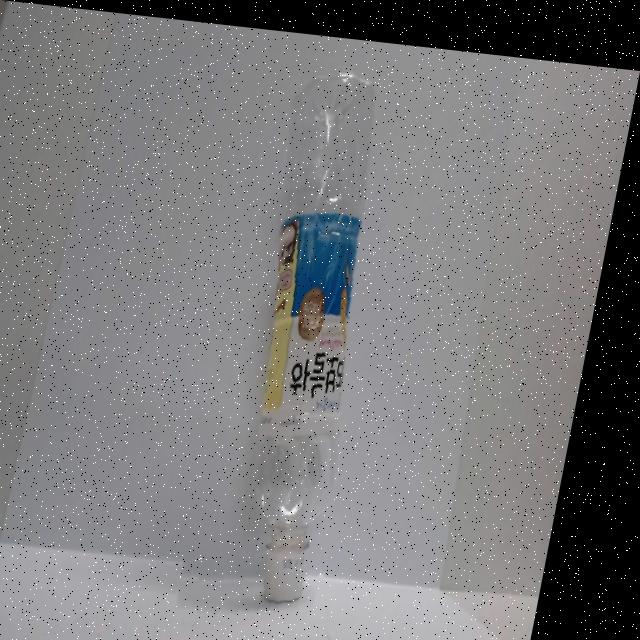plasticbottle: (182, 41, 418, 617)
plasticbottlecap: (227, 519, 339, 625)
